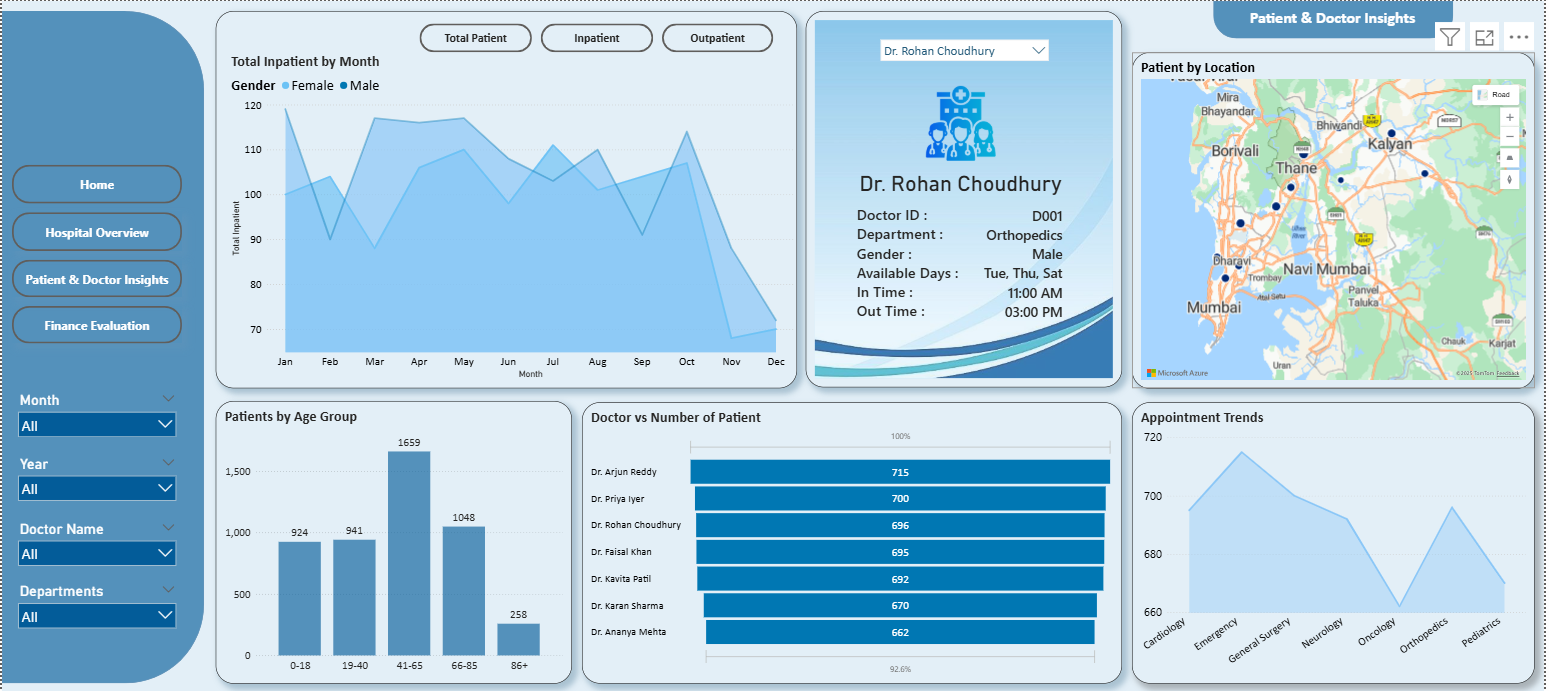

This screenshot's page, from the dashboard's own definition file:
{"tool":"powerbi","page":{"name":"Patient & Doctor Insights","canvas":[2570,1150],"ordinal":2},"visuals":[{"type":"shape","box":[0,16.3,336.7,1120.4],"z":0},{"type":"slicer","fields":{"Values":["Date_Table.Month"]},"box":[16.3,644.9,283.7,87.8],"z":1000},{"type":"slicer","fields":{"Values":["Date_Table.Year"]},"box":[16.3,753.1,283.7,87.8],"z":2000},{"type":"shape","box":[2018.8,0,400,62.5],"z":3000},{"type":"slicer","fields":{"Values":["Doctor_Table.Dr_Name"]},"box":[16.3,861.2,283.7,87.8],"z":4000},{"type":"slicer","fields":{"Values":["Doctor_Table.Dr_Department"]},"box":[16.3,965.3,283.7,87.8],"z":5000},{"type":"actionButton","box":[16.7,352.1,283.3,64.6],"z":6000},{"type":"actionButton","box":[16.7,431.2,283.3,62.5],"z":7000},{"type":"actionButton","box":[16.7,272.9,283.3,64.6],"z":8000},{"type":"actionButton","box":[16.7,509,283.3,62.5],"z":9000},{"type":"textbox","box":[2041.7,6.2,352.1,50],"z":10000},{"type":"clusteredColumnChart","title":"Patients by Age Group","fields":{"Category":["Patient_Table.Age Group"],"Y":["CountNonNull(Patient_Table.Patient_ID)"]},"box":[356.2,666.7,593.8,470.8],"z":11000},{"type":"funnel","title":"Doctor vs Number of Patient","fields":{"Category":["Doctor_Table.Dr_Name"],"Y":["CountNonNull(Patient_Table.Patient_ID)"]},"box":[966.7,668.8,900,468.8],"z":12000},{"type":"shape","box":[356.2,16.7,968.8,629.2],"z":13000},{"type":"actionButton","box":[695.8,37.5,187.5,47.9],"z":14000},{"type":"actionButton","box":[897.9,37.5,187.5,47.9],"z":15000},{"type":"actionButton","box":[1100,37.5,185.4,47.9],"z":16000},{"type":"columnChart","title":"Total Patient by Month","fields":{"Category":["Date_Table.Month"],"Y":["CountNonNull(Patient_Table.Patient_ID)"],"Series":["Patient_Table.Gender"]},"box":[372.9,85.4,952.1,560.4],"z":17000},{"type":"azureMap","title":"Patient by Location","fields":{"Category":["Patient_Table.Full Location"],"Size":["CountNonNull(Patient_Table.Patient_ID)"]},"box":[1883.3,70.8,670.8,560.4],"z":20000},{"type":"areaChart","title":"Appointment Trends","fields":{"Category":["Doctor_Table.Dr_Department"],"Y":["CountNonNull(Appointment_Table.Appointment_ID)"]},"box":[1883.3,668.8,670.8,468.8],"z":21000},{"type":"cardVisual","fields":{"Data":["Min(Doctor_Table.Dr_Name)"]},"box":[1339.6,16.7,527.1,627.1],"z":22000},{"type":"slicer","fields":{"Values":["Doctor_Table.Dr_Name"]},"box":[1454.2,54.2,300,62.5],"z":23000}]}

Visuals, with their boxes in screenshot pixels (x1, y1, x2, y2):
shape: BBox(8, 14, 207, 676)
slicer - Date_Table.Month: BBox(18, 386, 186, 437)
slicer - Date_Table.Year: BBox(18, 450, 186, 501)
shape: BBox(1202, 4, 1439, 41)
slicer - Doctor_Table.Dr_Name: BBox(18, 513, 186, 565)
slicer - Doctor_Table.Dr_Department: BBox(18, 575, 186, 627)
actionButton: BBox(18, 212, 186, 251)
actionButton: BBox(18, 259, 186, 296)
actionButton: BBox(18, 165, 186, 204)
actionButton: BBox(18, 305, 186, 342)
textbox: BBox(1216, 8, 1424, 37)
"Patients by Age Group" clusteredColumnChart: BBox(219, 398, 570, 677)
"Doctor vs Number of Patient" funnel: BBox(580, 400, 1112, 677)
shape: BBox(219, 14, 792, 386)
actionButton: BBox(420, 26, 531, 55)
actionButton: BBox(539, 26, 650, 55)
actionButton: BBox(659, 26, 768, 55)
"Total Patient by Month" columnChart: BBox(229, 55, 792, 386)
"Patient by Location" azureMap: BBox(1122, 46, 1519, 377)
"Appointment Trends" areaChart: BBox(1122, 400, 1519, 677)
cardVisual - Min(Doctor_Table.Dr_Name): BBox(800, 14, 1112, 385)
slicer - Doctor_Table.Dr_Name: BBox(868, 36, 1046, 73)
